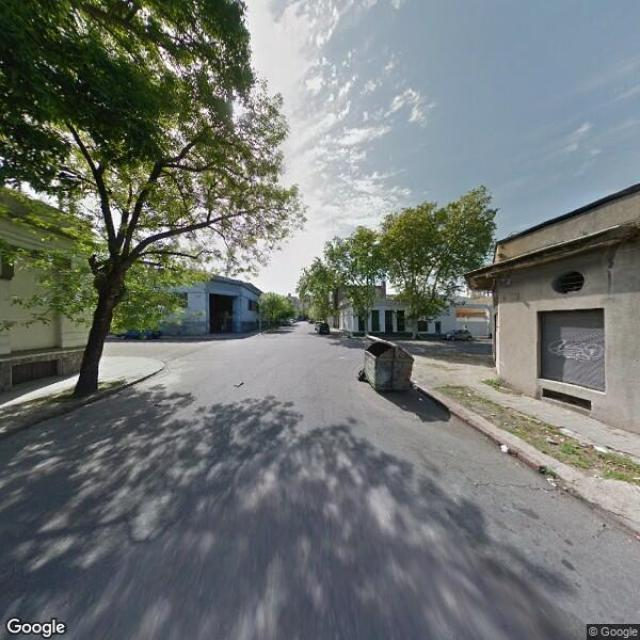garbage container: (354, 336, 422, 403)
